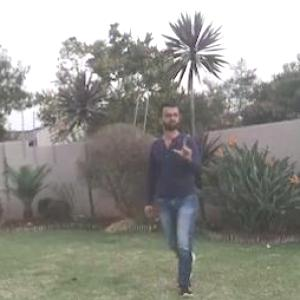land_hand: (169, 128, 198, 164)
